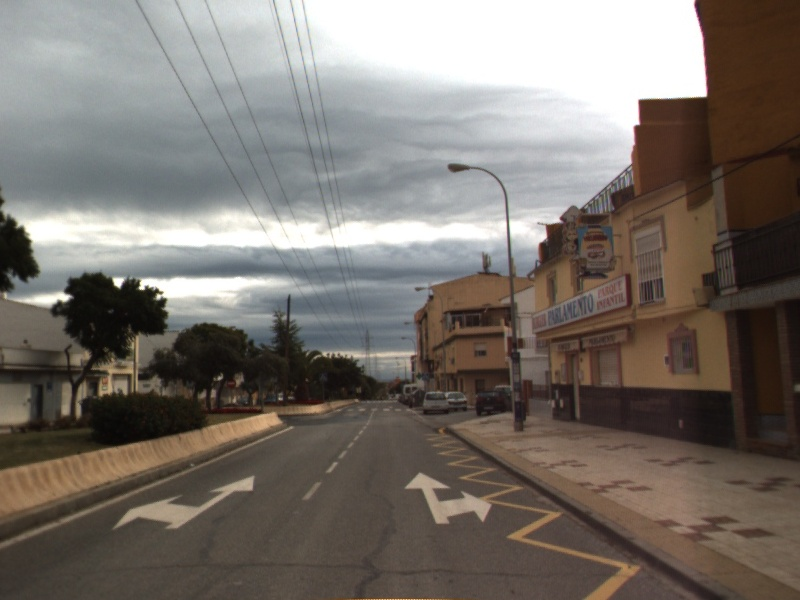STRAIGHT_LEFT: (109, 473, 257, 532)
STRAIGHT_RIGHT: (402, 469, 494, 526)
